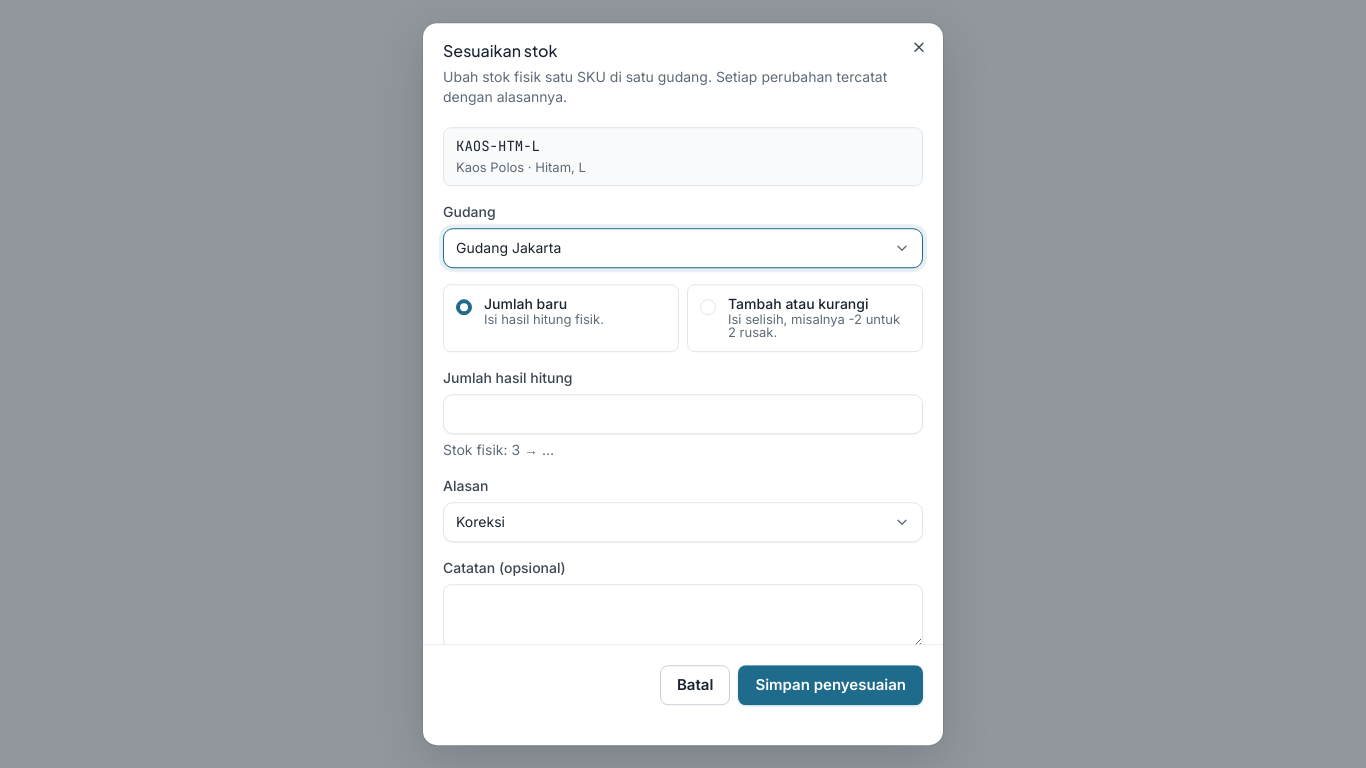
Scenario: AdjustStockDialog › refuses to take more than is on hand before asking the api
Click the radio button named "Tambah atau kurangi" next to "Tambah atau kurangi": coordinates (708, 307) [700, 299, 716, 315]
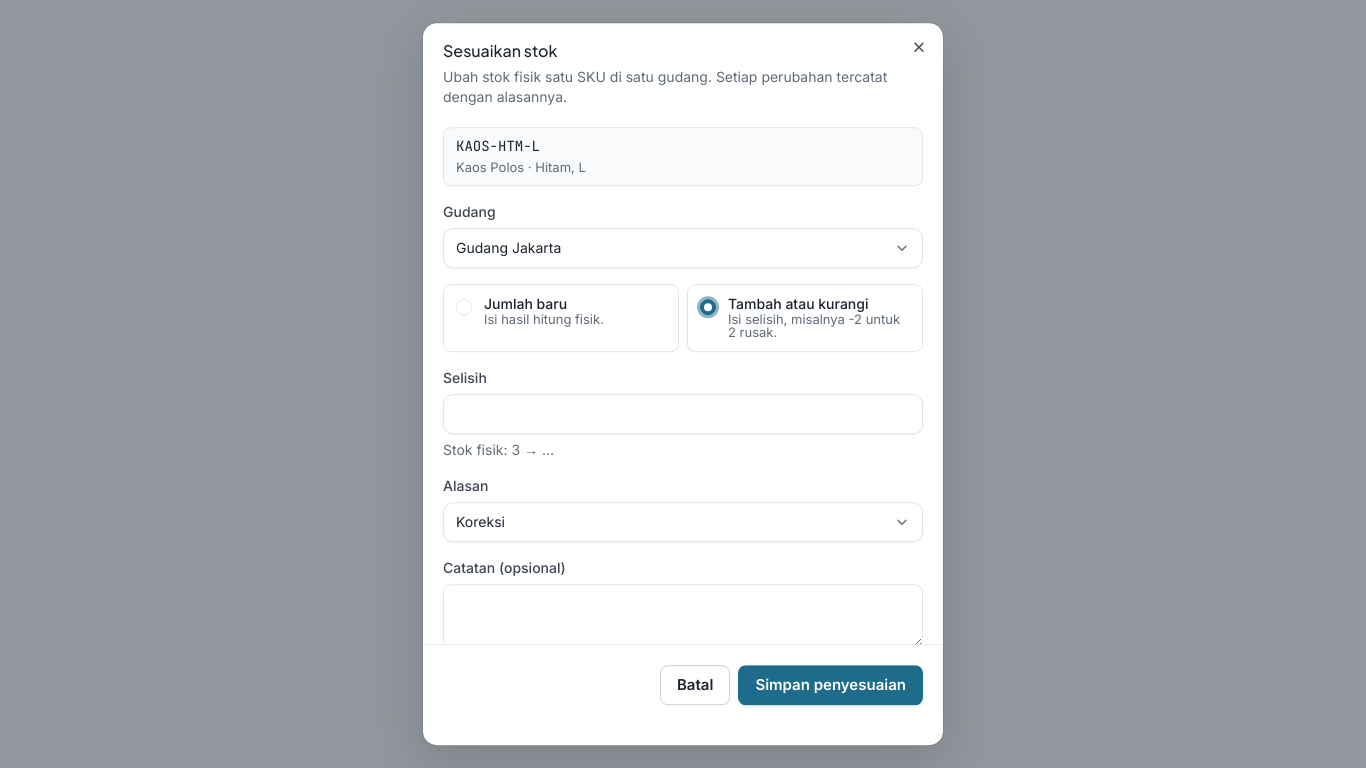
In the number field labelled "Selisih": coordinates (683, 414) [443, 394, 923, 434], type "-5"
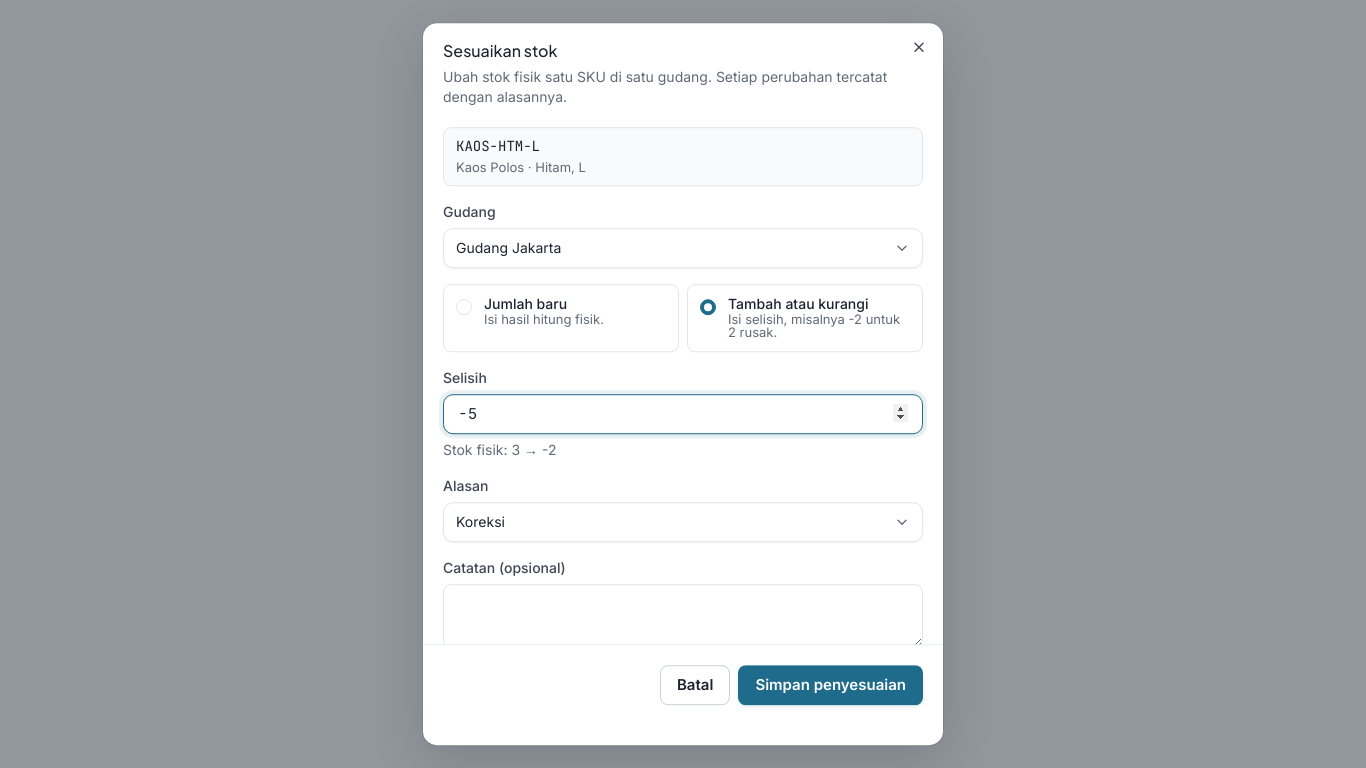
Expected: the text "Stok fisik: 3 → -2" is shown, [443, 441, 556, 458]
Click the button "Simpan penyesuaian": coordinates (831, 685) [738, 665, 923, 705]
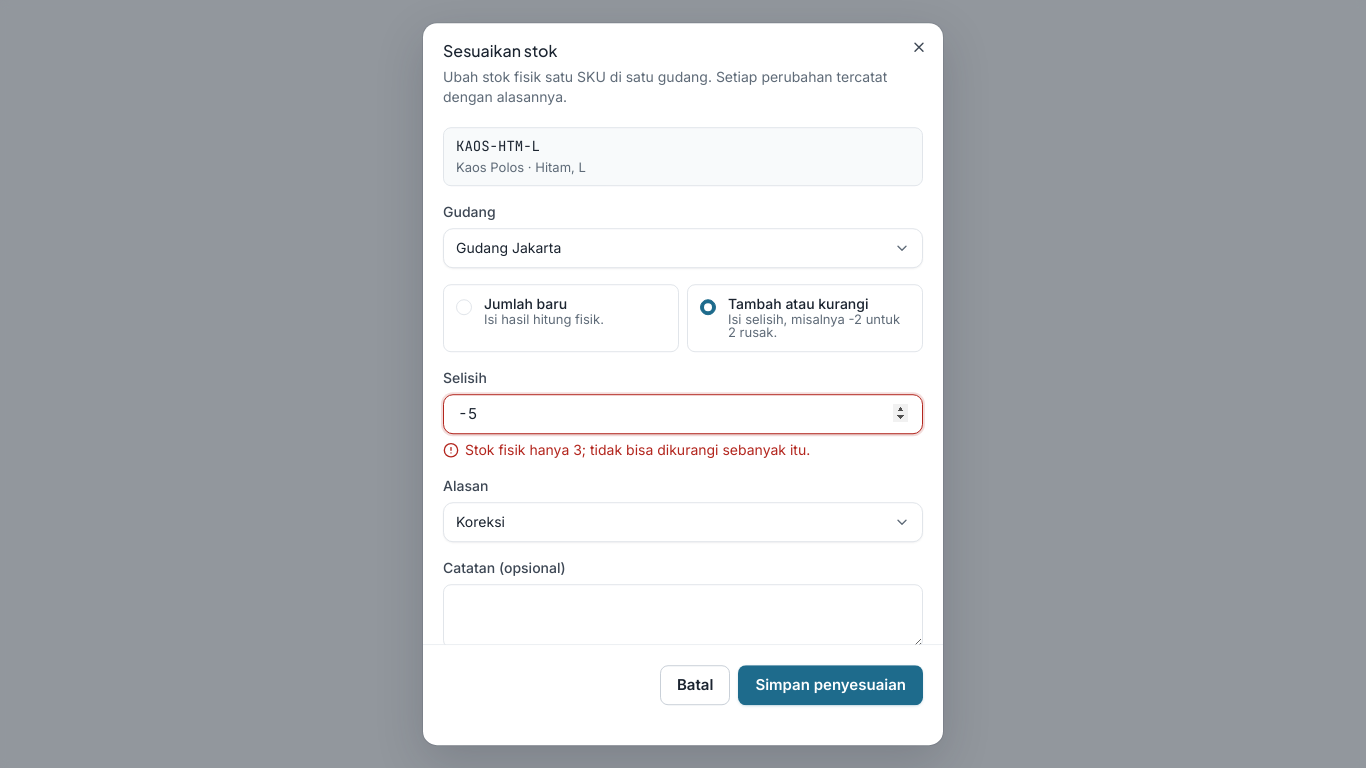
Expected: the text "Stok fisik hanya 3; tidak bisa dikurangi sebanyak itu." is shown, [443, 441, 810, 458]
